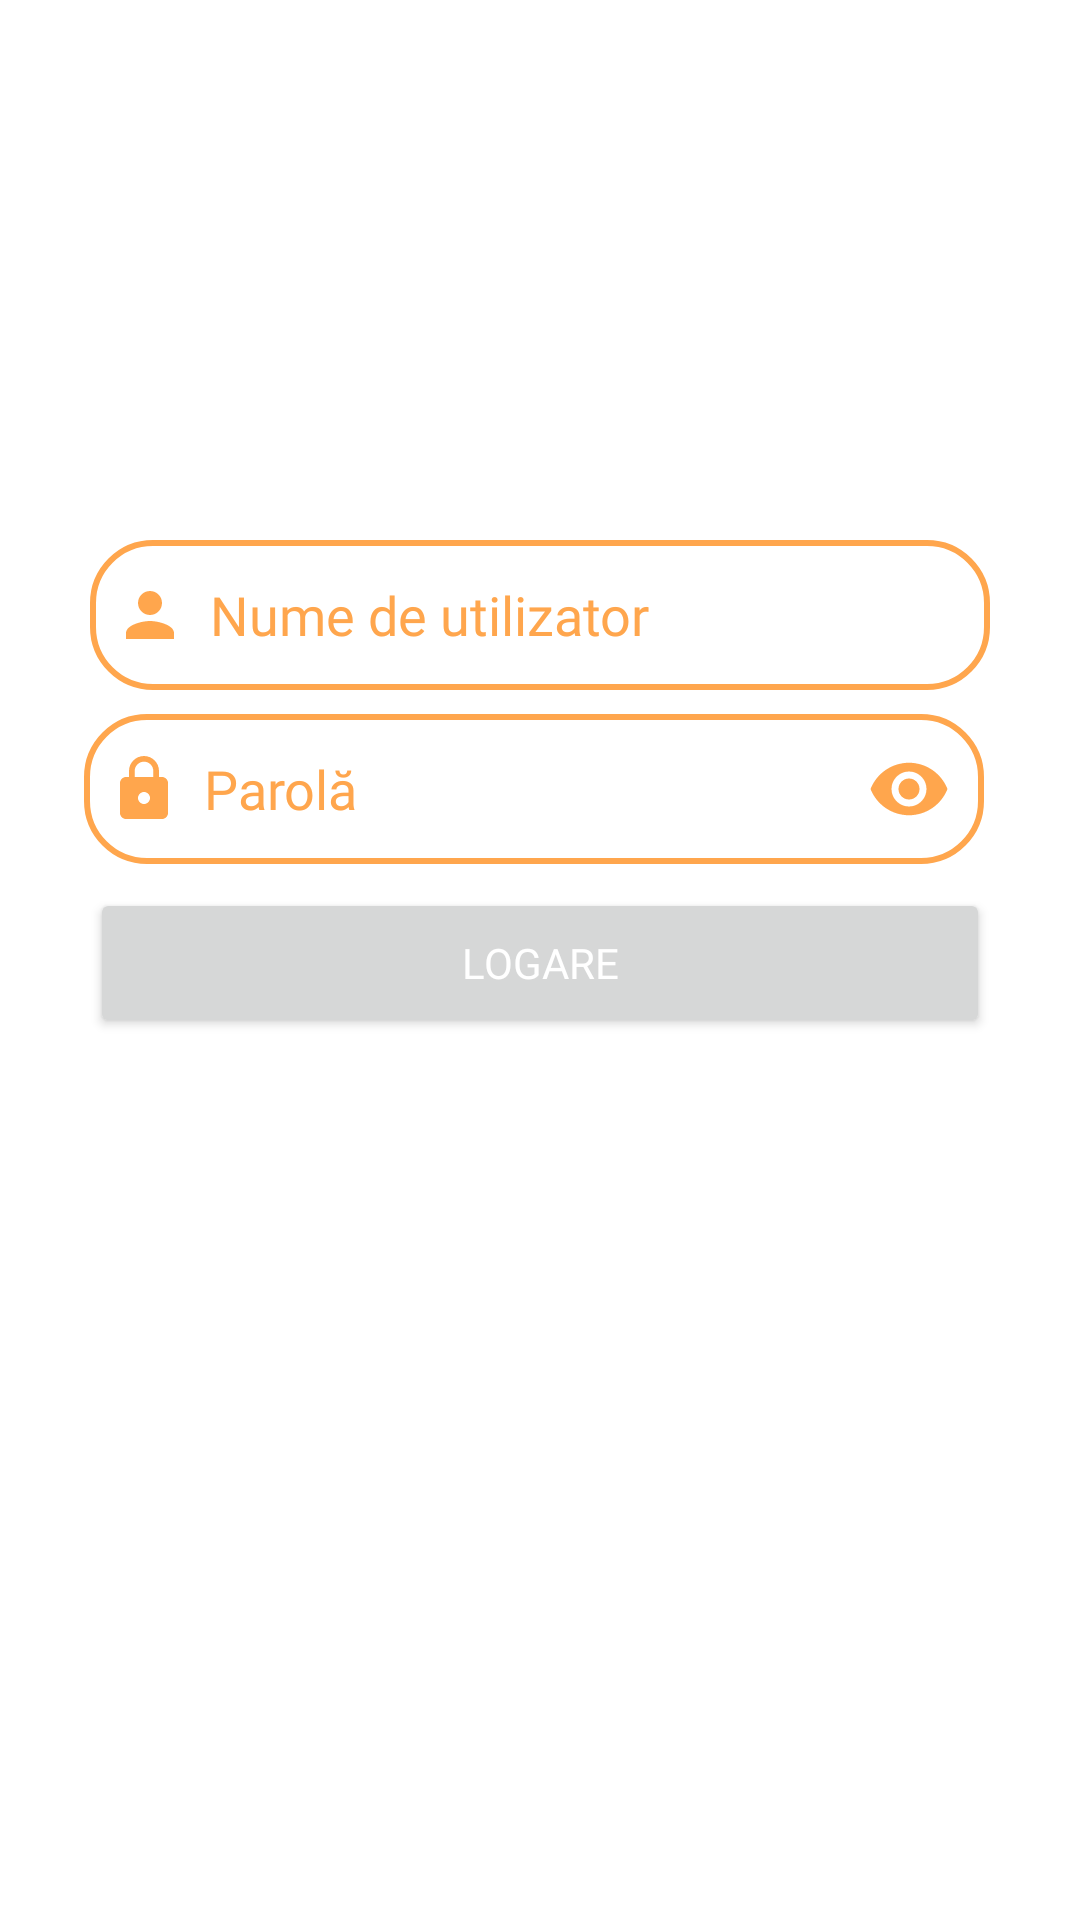

Icon click points for this 1080w x 1920h phone screenshot, format point (x, y):
hide: point (909, 789)
